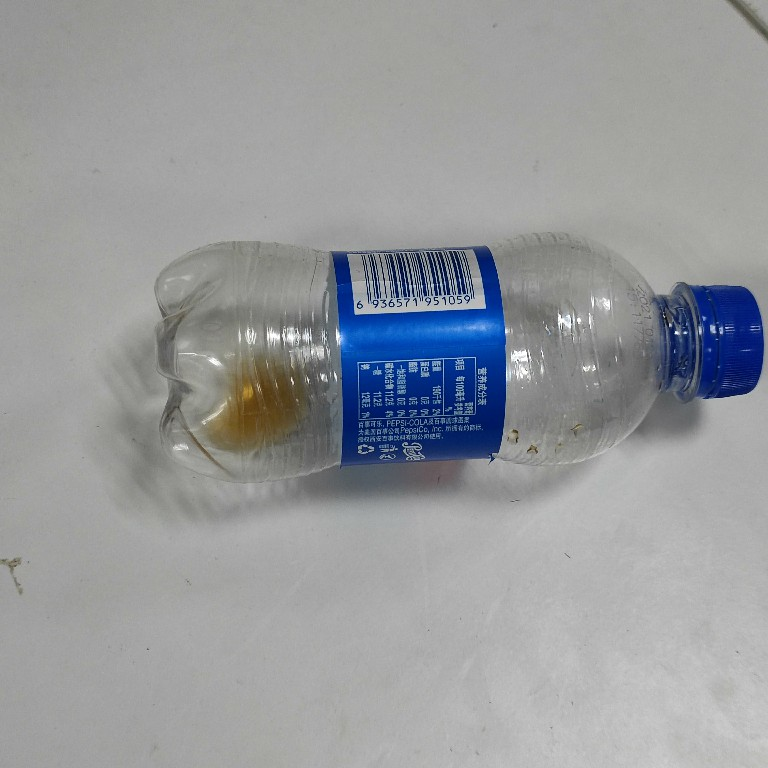bottle: (142, 231, 768, 488)
